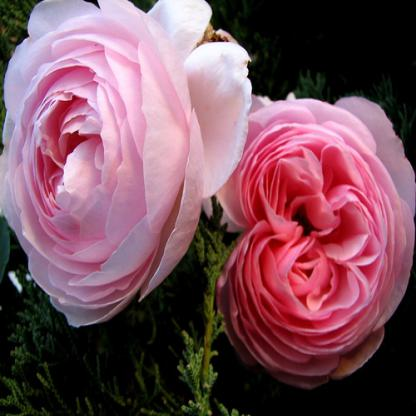ROSE-MAWAR: (3, 4, 416, 383)
